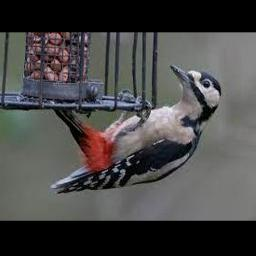Woodpecker: (51, 64, 222, 193)
